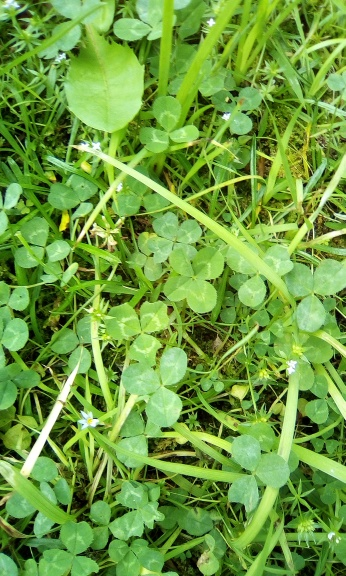4leaf: (163, 245, 225, 314)
